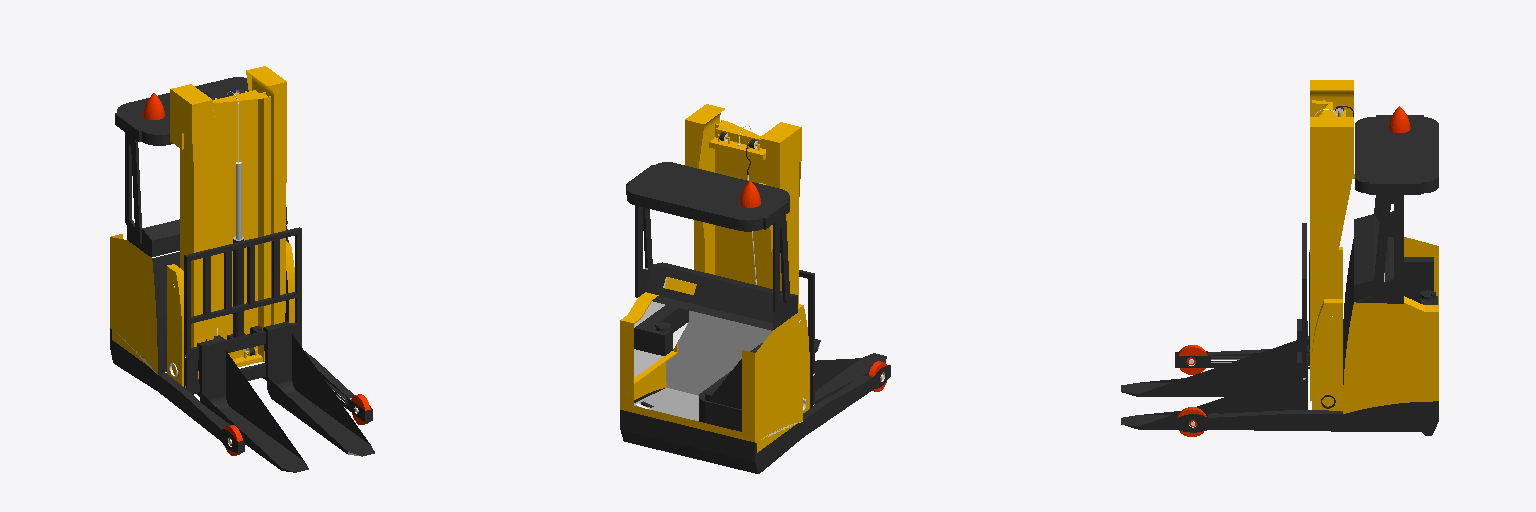
Rendered from manup_truck.obj.
The picture shows the model from 3 angles: view 1: azimuth 30°, elevation 25°; view 2: azimuth 150°, elevation 25°; view 3: azimuth 270°, elevation 25°; orthographic projection.
Parts seen in each view (by area): view 1: ManUp_Truck; view 2: ManUp_Truck; view 3: ManUp_Truck.
Part boxes in pixels (x1,y1,x2,y2): ManUp_Truck: (110,66,374,472); ManUp_Truck: (620,104,890,473); ManUp_Truck: (1121,80,1438,436).
Size of the model in its own units: 1.16 by 2.38 by 2.26.